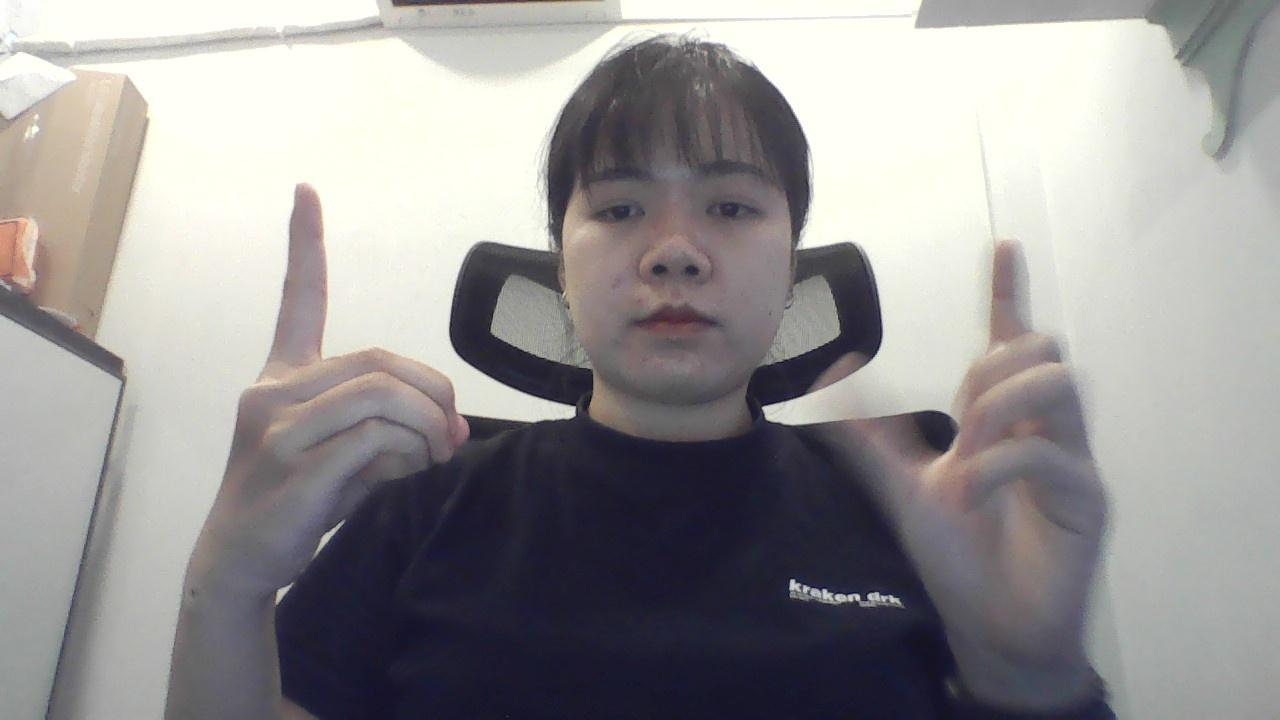D: (189, 174, 478, 617)
